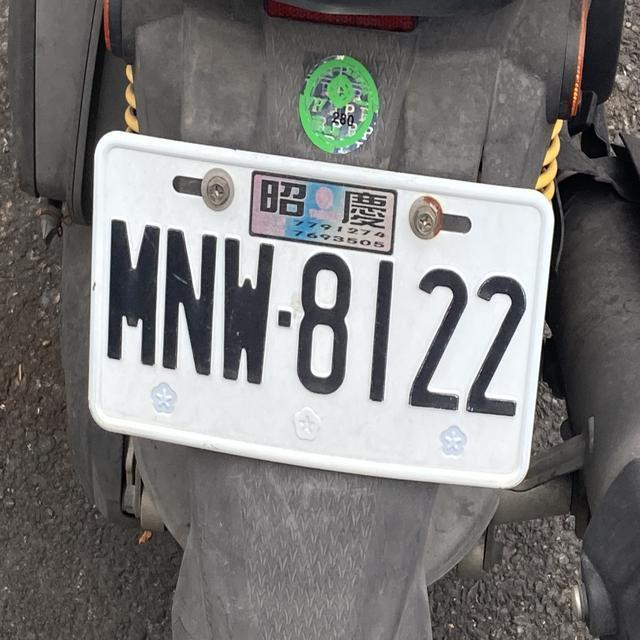license: (95, 212, 530, 426)
